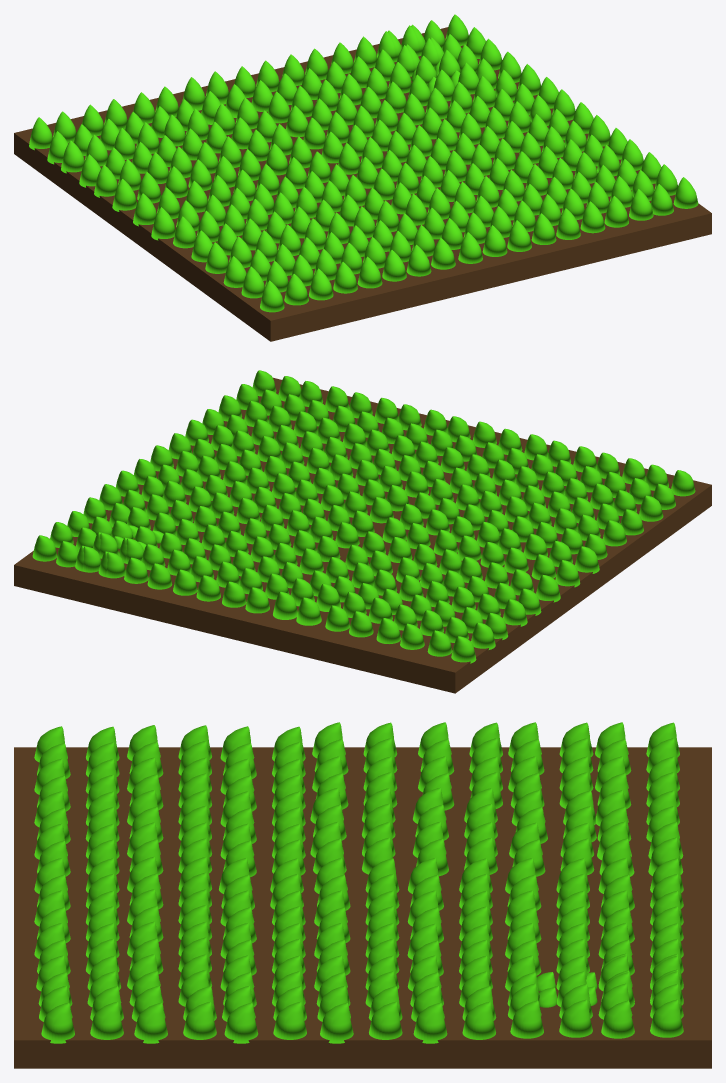
File: Pasto4.fbx
3 views of the same model, one above another, from view 1: azimuth 30°, elevation 25°; view 2: azimuth 150°, elevation 25°; view 3: azimuth 270°, elevation 25° (orthographic). The views are drawn at different scales.
Parts seen in each view (by area): view 1: Cube.077; view 2: Cube.077; view 3: Cube.077.
Boxes of the visible parts, x1=… form: Cube.077: x1=14, y1=14, x2=711, y2=341; Cube.077: x1=14, y1=370, x2=711, y2=693; Cube.077: x1=14, y1=722, x2=711, y2=1068.
Bounding box in the file's own units: 1000 × 100 × 1000.
Materials: 2 (2 with a texture image).
